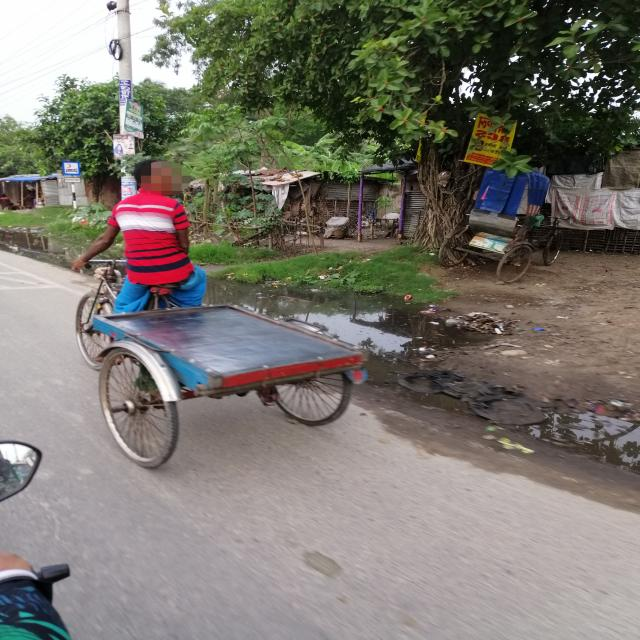Van: (58, 259, 376, 473)
